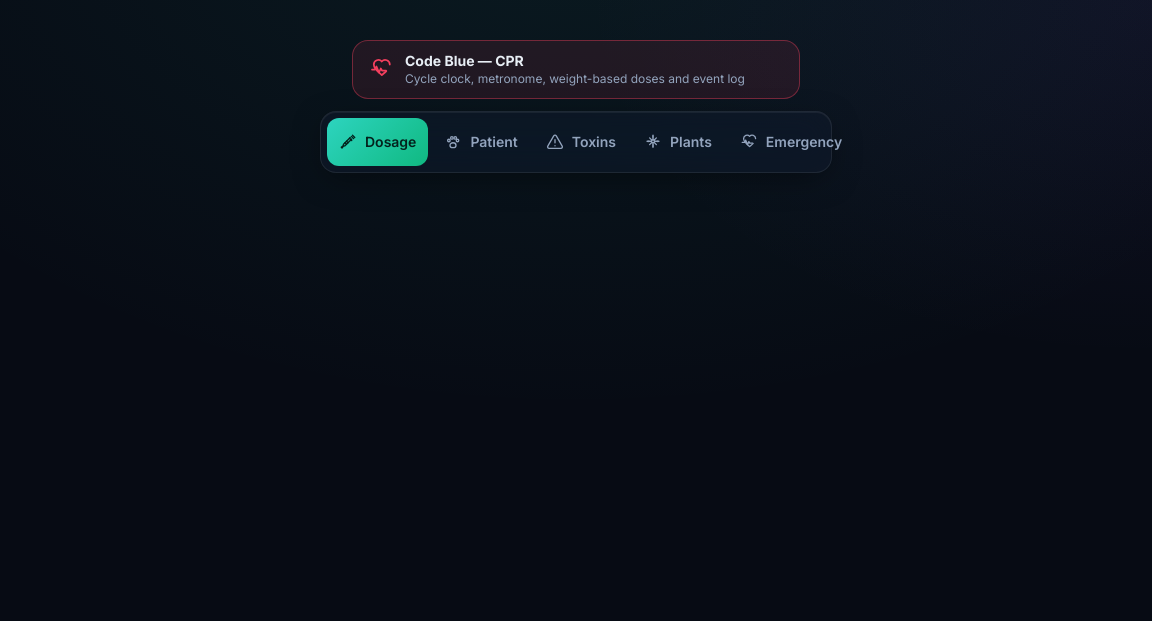
Scenario: Tools — Code Blue entry › keeps the ordinary calculators one tap away
This screenshot has width=1152, height=621.
Click the button "Code Blue" at (576, 69), box [352, 40, 800, 98]
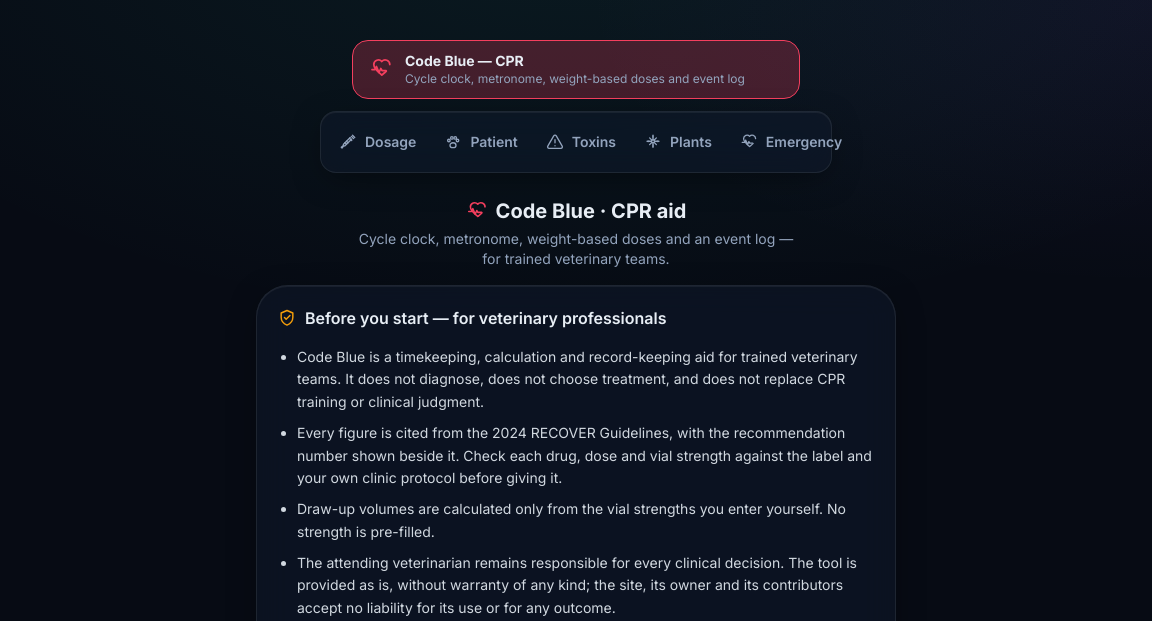
Click the tab "Toxins" at (581, 142), box [534, 118, 628, 166]
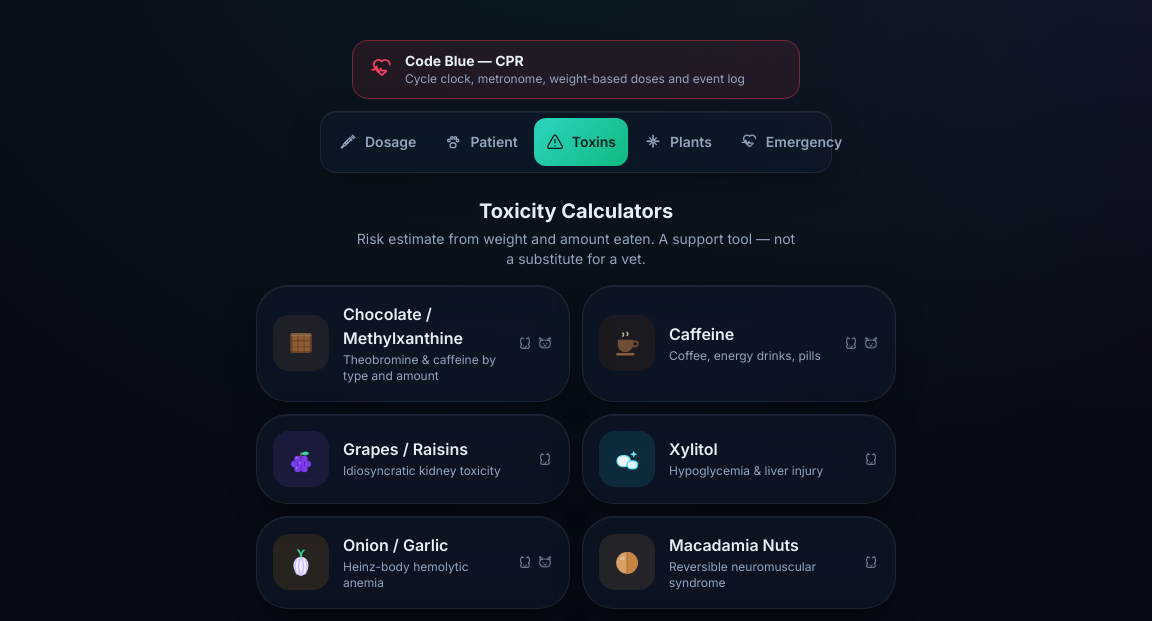
Expected: the heading "Toxicity Calculators" is shown, [479, 198, 673, 222]
